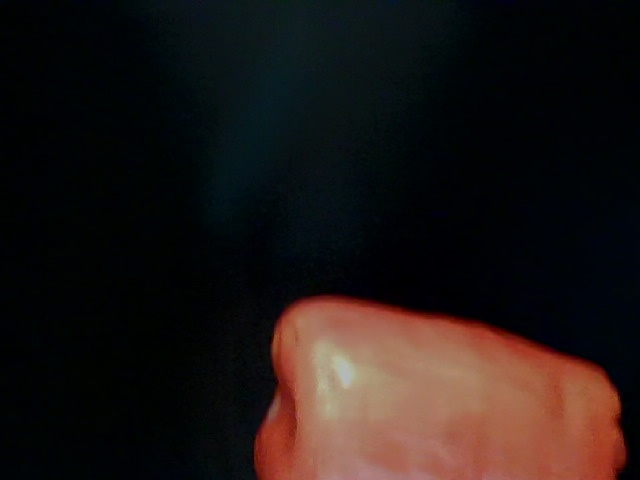QTLJ: (411, 340, 577, 480)
